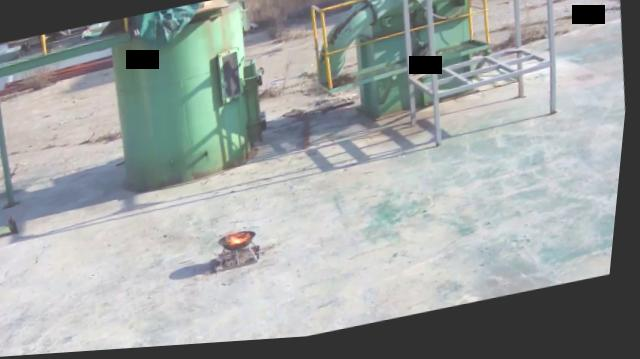fire: (228, 229, 259, 249)
